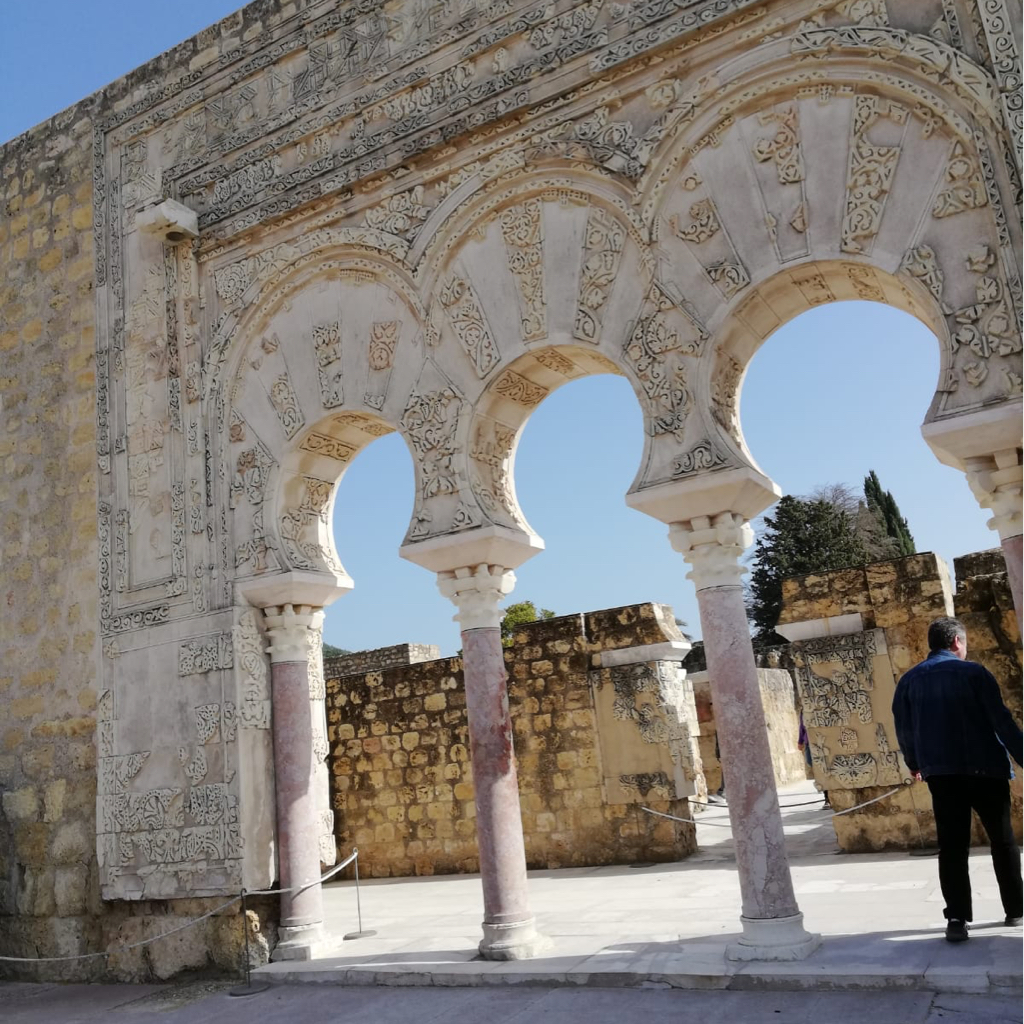arco-herradura: (680, 235, 984, 533), (440, 323, 687, 598), (259, 397, 446, 640)
